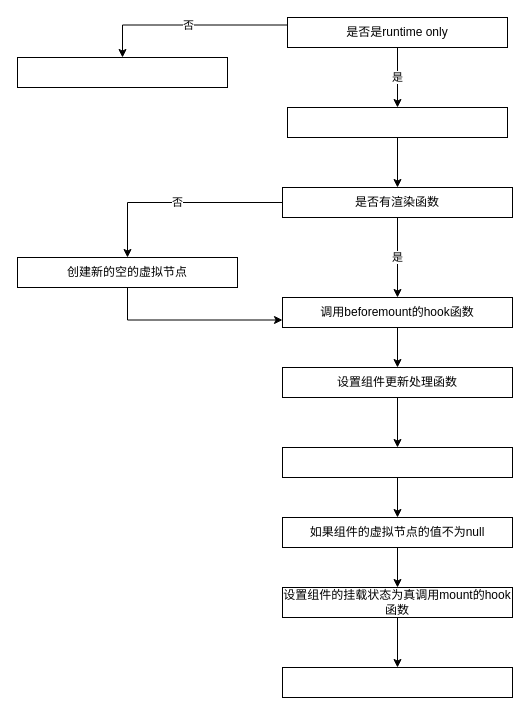
The diagram is 530 pixels wide and 715 high, and some of its shapes have lost their labels. Each missing label, with the box of its shape:
为组件设置_watcher属性,为新创建的Watcher实例: (282, 446, 512, 478)
生成渲染函数: (16, 56, 228, 88)
获取挂载元素: (286, 106, 508, 138)
返回组件对象: (282, 666, 512, 698)
